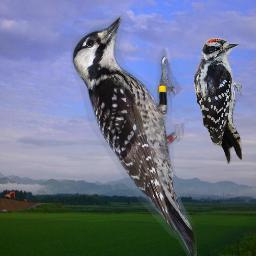Woodpecker: (71, 15, 197, 256), (192, 38, 242, 164)
